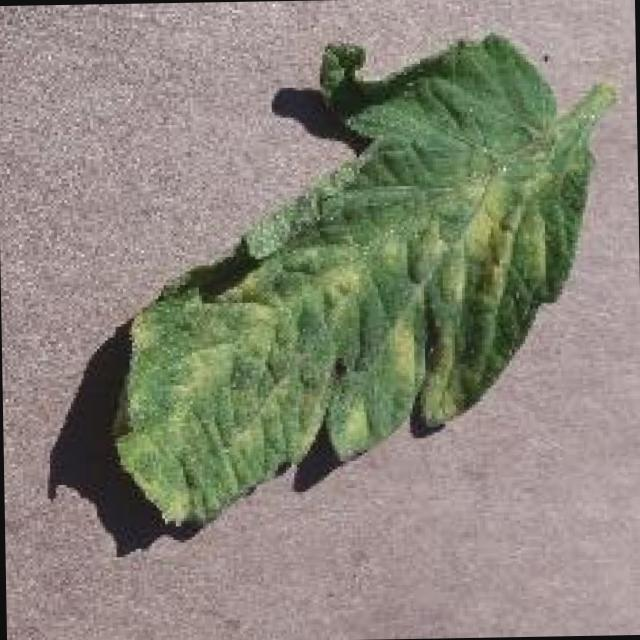leaf mold: (102, 33, 616, 535)
